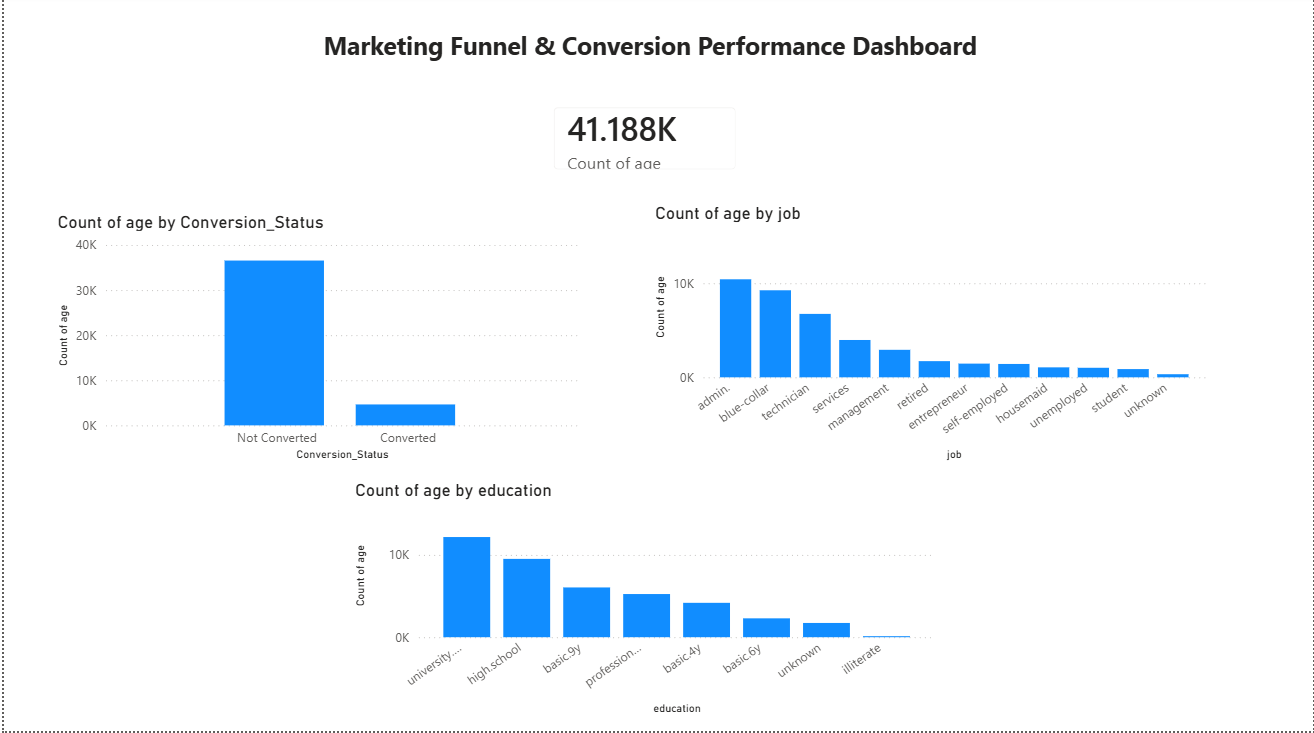

The dashboard page shown, as its layout file describes it:
{"tool":"powerbi","page":{"name":"Page 1","canvas":[1280,720],"ordinal":0},"visuals":[{"type":"clusteredColumnChart","fields":{"Category":["bank-additional-full.Conversion_Status"],"Y":["CountNonNull(bank-additional-full.age)"]},"box":[47.7,211.6,519.7,249.5],"z":0},{"type":"clusteredColumnChart","fields":{"Category":["bank-additional-full.job"],"Y":["CountNonNull(bank-additional-full.age)"]},"box":[632.2,203,547.8,258],"z":1},{"type":"clusteredColumnChart","fields":{"Category":["bank-additional-full.education"],"Y":["CountNonNull(bank-additional-full.age)"]},"box":[338.7,474.5,577.2,234.8],"z":2},{"type":"cardVisual","fields":{"Data":["CountNonNull(bank-additional-full.age)"]},"box":[520.9,92.9,212.8,95.4],"z":3},{"type":"textbox","box":[84.4,28.1,1095.7,75.8],"z":4}]}

Visuals, with their boxes in screenshot pixels (x1, y1, x2, y2), scaled from the page's 1280x720 canvas onto the 1314x733 screenshot:
clusteredColumnChart - bank-additional-full.Conversion_Status x CountNonNull(bank-additional-full.age): [49, 215, 582, 469]
clusteredColumnChart - bank-additional-full.job x CountNonNull(bank-additional-full.age): [649, 207, 1211, 469]
clusteredColumnChart - bank-additional-full.education x CountNonNull(bank-additional-full.age): [348, 483, 940, 722]
cardVisual - CountNonNull(bank-additional-full.age): [535, 95, 753, 192]
textbox: [87, 29, 1211, 106]
